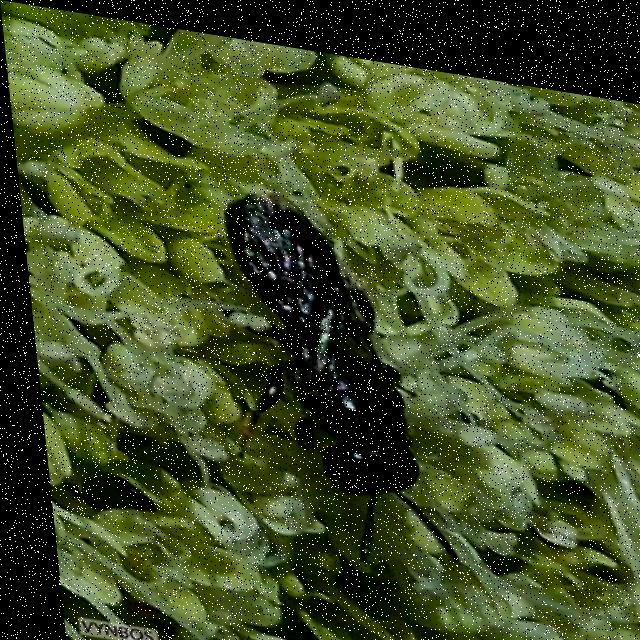Xylocopa: (184, 151, 479, 548)
